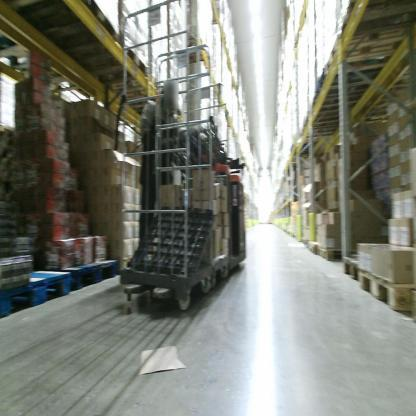pallets: (0, 254, 119, 341), (341, 256, 415, 322), (303, 241, 343, 262)
